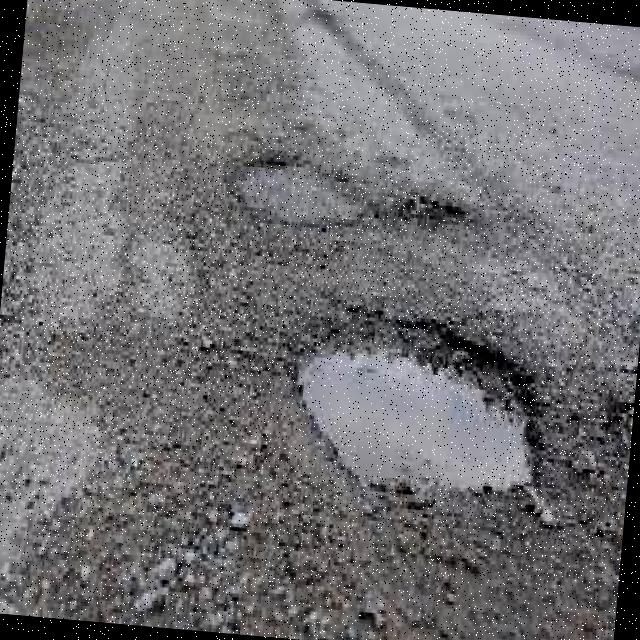pothole: (298, 317, 541, 494)
